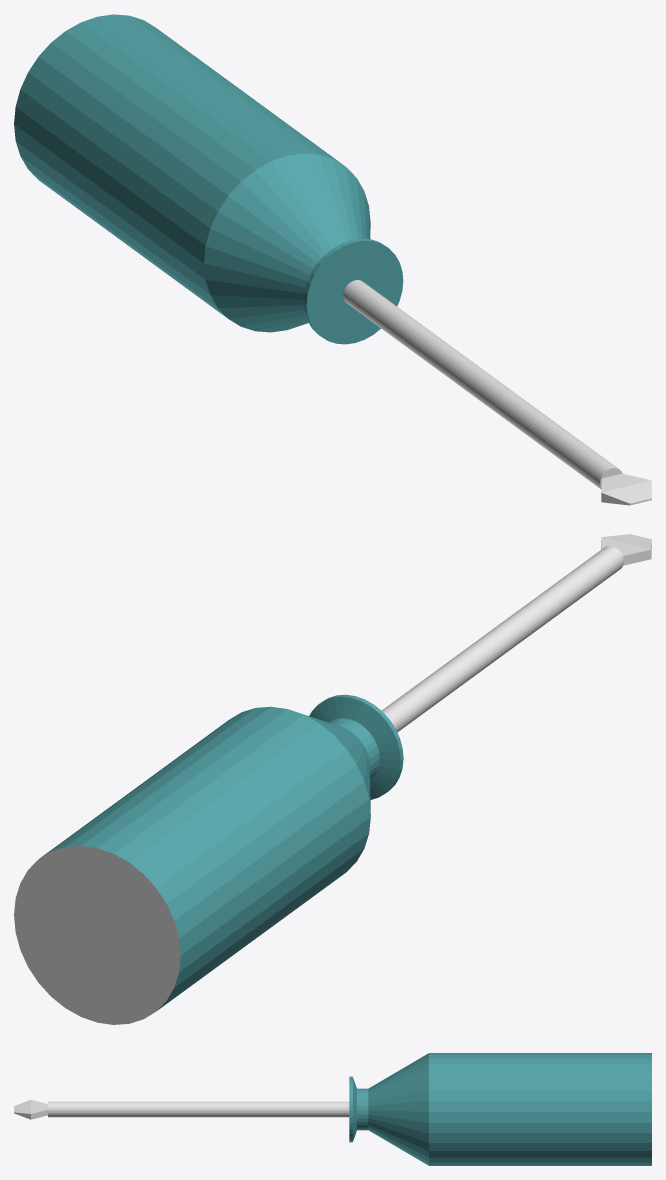
Rendered from Obeng.fbx.
3 renders of one model, top to bottom at view 1: azimuth 30°, elevation 25°; view 2: azimuth 150°, elevation 25°; view 3: azimuth 270°, elevation 25°, orthographic. The views are drawn at different scales.
Parts seen in each view (by area): view 1: Cylinder; view 2: Cylinder; view 3: Cylinder.
Boxes of the visible parts, bbox=[...] form: Cylinder: bbox=[14, 14, 651, 505]; Cylinder: bbox=[14, 534, 651, 1024]; Cylinder: bbox=[14, 1053, 651, 1165].
Bounding box in the file's own units: 26.58 × 26.58 × 150.
